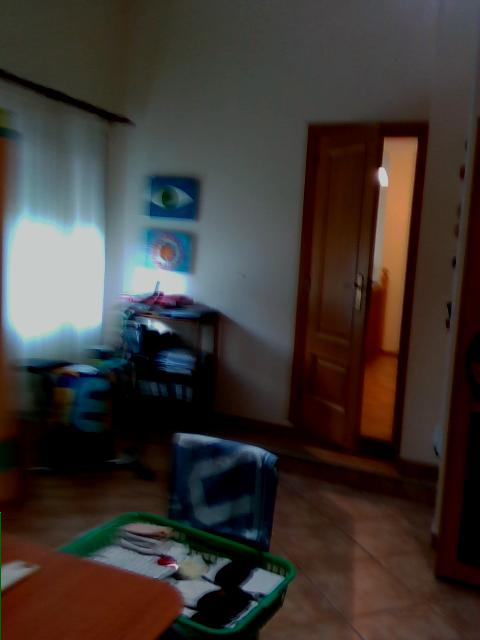semi_door: (285, 119, 428, 467)
